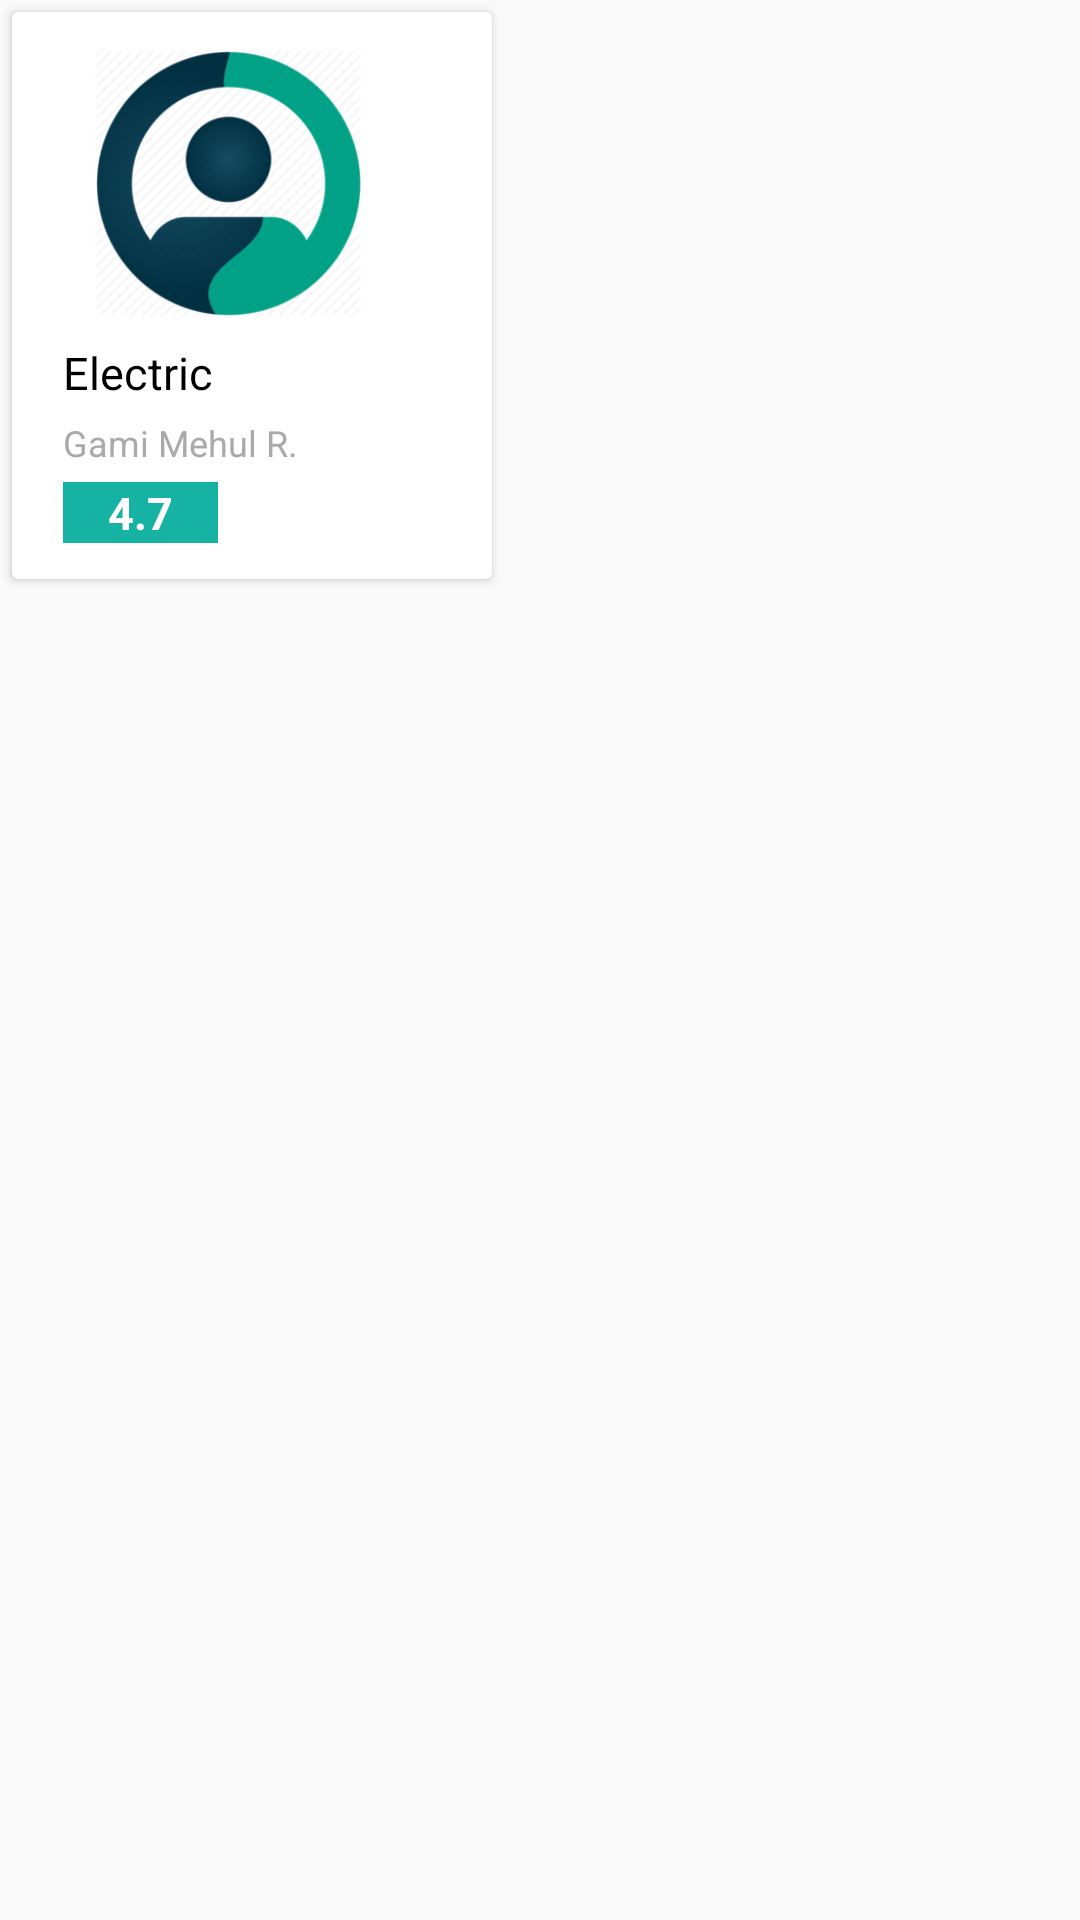

Where to tap for icons on this 1080w x 1920h app screen, as [x,y]:
user: [228,183]
